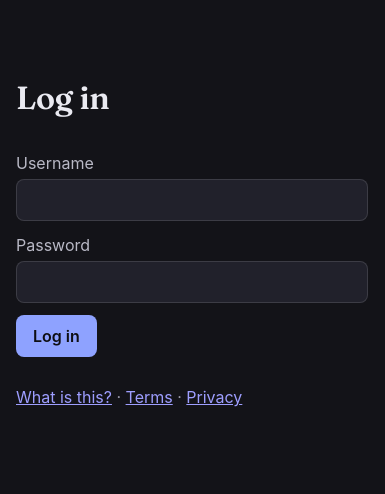
Test: app shell + routing › surfaces a structured login error
Check: the heading "Log in" is shown, box [16,78,110,118]
Type "dm" into the field labelled "Username" at (192, 200), box [16,179,368,221]
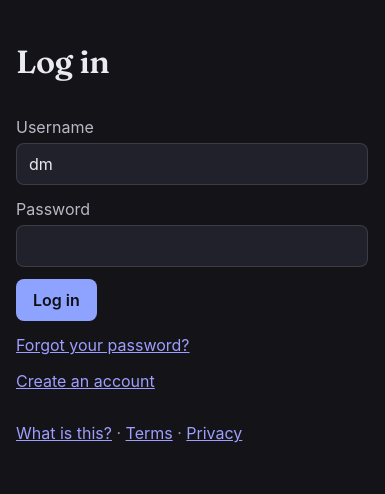
Type "nope" into the password field labelled "Password" at (192, 246), box [16,225,368,267]
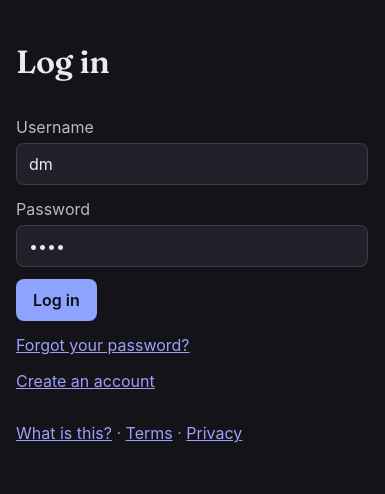
Click the button "Log in" at (56, 300), box [16,279,97,321]
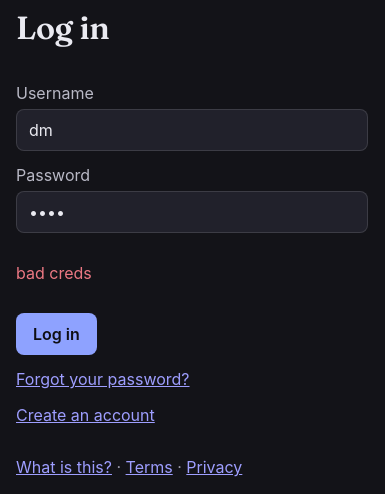
Check: the message reads "bad creds", box [16,263,92,283]
